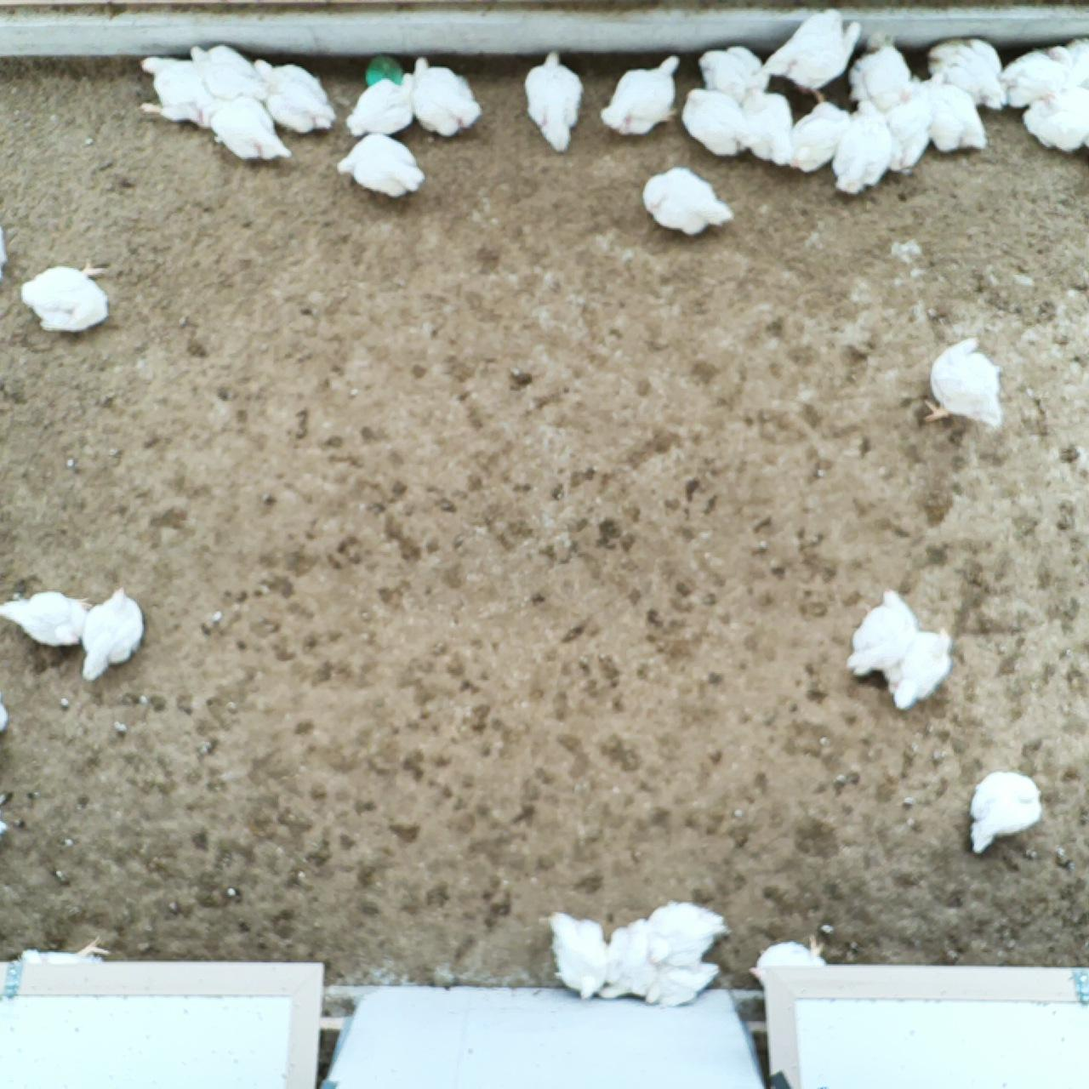chicken: (766, 3, 869, 107), (916, 338, 1012, 427), (643, 162, 744, 240), (601, 49, 686, 140), (21, 255, 113, 338), (842, 583, 919, 682), (405, 49, 484, 143), (250, 53, 338, 135), (966, 765, 1041, 858), (132, 53, 221, 130), (546, 905, 615, 1004), (524, 47, 586, 157), (832, 99, 899, 199), (83, 579, 145, 685), (0, 587, 98, 654), (926, 31, 1005, 112), (337, 129, 425, 201), (593, 911, 661, 1003), (676, 85, 756, 163), (202, 93, 292, 162), (915, 68, 988, 153), (644, 900, 727, 967), (347, 65, 423, 137), (1001, 43, 1080, 111), (887, 625, 952, 707), (789, 97, 855, 175), (189, 39, 269, 103), (758, 933, 835, 995), (695, 42, 769, 106), (847, 42, 915, 111), (736, 88, 793, 167), (644, 957, 727, 1011), (1023, 83, 1089, 150), (887, 84, 931, 172), (1046, 36, 1089, 89)
